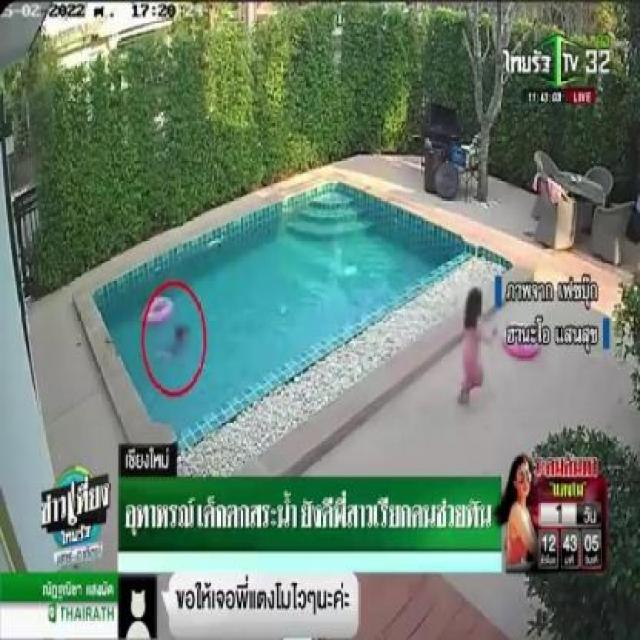drowning: (156, 325, 196, 372)
